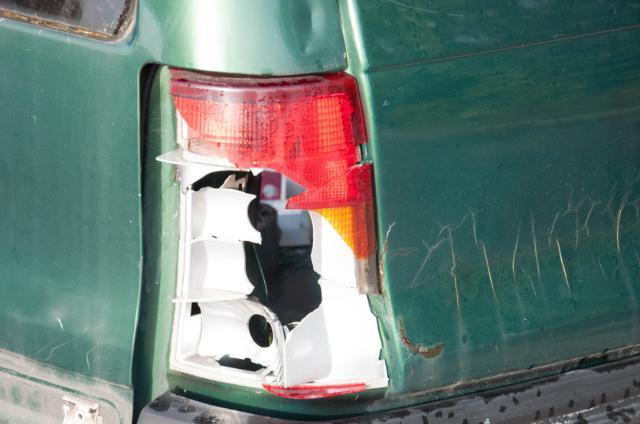Dickey: (387, 180, 640, 340)
Light: (151, 64, 390, 397)
